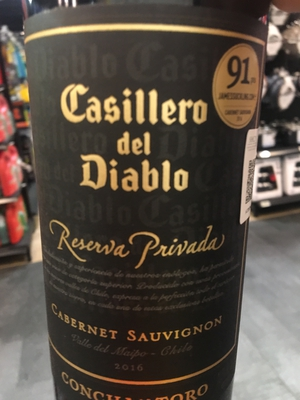casillero del diablo reserva privada cabernet sauvignon: (18, 1, 286, 400)
